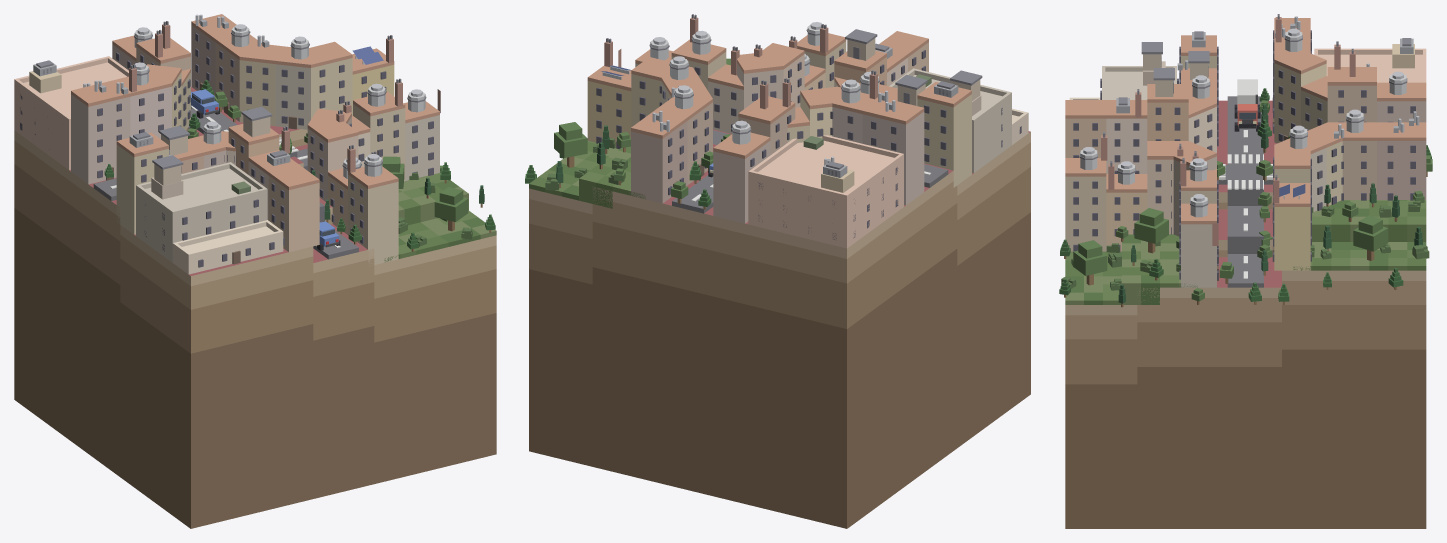
The model's file is block_18_engineered_20.glb.
3 renders of one model, left to right at view 1: azimuth 30°, elevation 25°; view 2: azimuth 150°, elevation 25°; view 3: azimuth 270°, elevation 25°, orthographic. The views are drawn at different scales.
Parts seen in each view (by area): view 1: Patch_MidRight_b17_ES, Cerda_MidRight_b17_ES, Insets_MidRight_b17_ES, CerdaRoofProps_MidRight_b17_ES, Green_MidRight_b17_ES, Roads_MidRight_b17_ES, Asset_Tree_Round.071_ES, Asset_Car.038_ES; view 2: Patch_MidRight_b17_ES, Cerda_MidRight_b17_ES, Insets_MidRight_b17_ES, CerdaRoofProps_MidRight_b17_ES, Green_MidRight_b17_ES, Roads_MidRight_b17_ES, Asset_Tree_Round.064_ES; view 3: Patch_MidRight_b17_ES, Cerda_MidRight_b17_ES, Green_MidRight_b17_ES, CerdaRoofProps_MidRight_b17_ES, Roads_MidRight_b17_ES, Insets_MidRight_b17_ES, Asset_Truck.010_ES, Asset_Tree_Round.064_ES, Asset_Tree_Round.071_ES, Asset_Tree_Round.070_ES, Zebra_MidRight_b17_ES.
Boxes of the visible parts, <box> form: Patch_MidRight_b17_ES: <box>14,87,496,528</box>; Cerda_MidRight_b17_ES: <box>71,14,439,266</box>; Insets_MidRight_b17_ES: <box>14,56,283,274</box>; CerdaRoofProps_MidRight_b17_ES: <box>33,14,440,185</box>; Green_MidRight_b17_ES: <box>384,172,496,262</box>; Roads_MidRight_b17_ES: <box>93,91,358,259</box>; Asset_Tree_Round.071_ES: <box>434,187,468,231</box>; Asset_Car.038_ES: <box>191,89,219,118</box>; Patch_MidRight_b17_ES: <box>529,129,1030,528</box>; Cerda_MidRight_b17_ES: <box>587,31,971,223</box>; Insets_MidRight_b17_ES: <box>748,68,1028,248</box>; CerdaRoofProps_MidRight_b17_ES: <box>601,14,982,177</box>; Green_MidRight_b17_ES: <box>529,141,645,208</box>; Roads_MidRight_b17_ES: <box>672,130,948,213</box>; Asset_Tree_Round.064_ES: <box>554,122,587,167</box>; Patch_MidRight_b17_ES: <box>1065,100,1426,528</box>; Cerda_MidRight_b17_ES: <box>1065,18,1426,287</box>; Green_MidRight_b17_ES: <box>1065,200,1426,304</box>; CerdaRoofProps_MidRight_b17_ES: <box>1079,14,1419,245</box>; Roads_MidRight_b17_ES: <box>1218,96,1272,287</box>; Insets_MidRight_b17_ES: <box>1069,44,1426,99</box>; Asset_Truck.010_ES: <box>1234,79,1260,131</box>; Asset_Tree_Round.064_ES: <box>1353,215,1388,260</box>; Asset_Tree_Round.071_ES: <box>1073,240,1107,285</box>; Asset_Tree_Round.070_ES: <box>1134,208,1168,253</box>; Zebra_MidRight_b17_ES: <box>1219,154,1273,189</box>.
Bounding box in the file's own units: 10.09 × 11.16 × 9.82.
